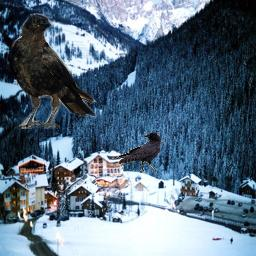Crow: (6, 13, 97, 129), (114, 132, 162, 173)
